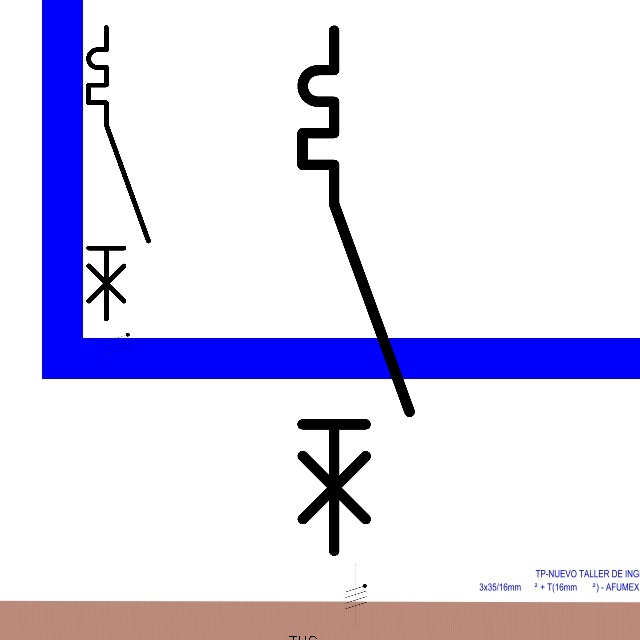interruptor_termomagnetico: (289, 17, 423, 564), (81, 20, 156, 327)
